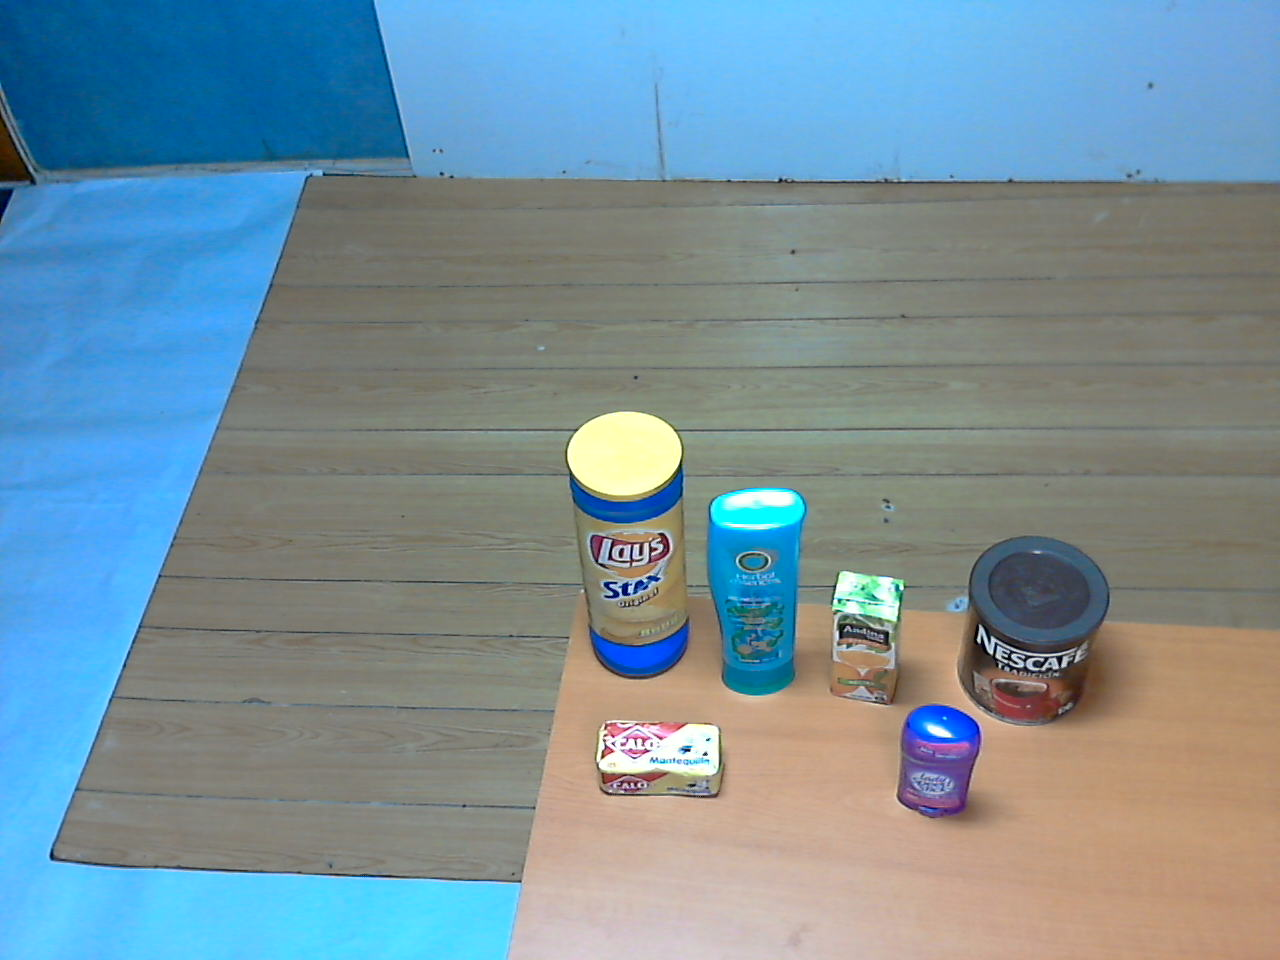balsamo: (701, 482, 816, 707)
cafe: (952, 532, 1116, 732)
desodorante: (891, 697, 986, 826)
jugoind: (820, 557, 913, 716)
mantequilla: (591, 711, 729, 810)
papas: (555, 407, 698, 686)
